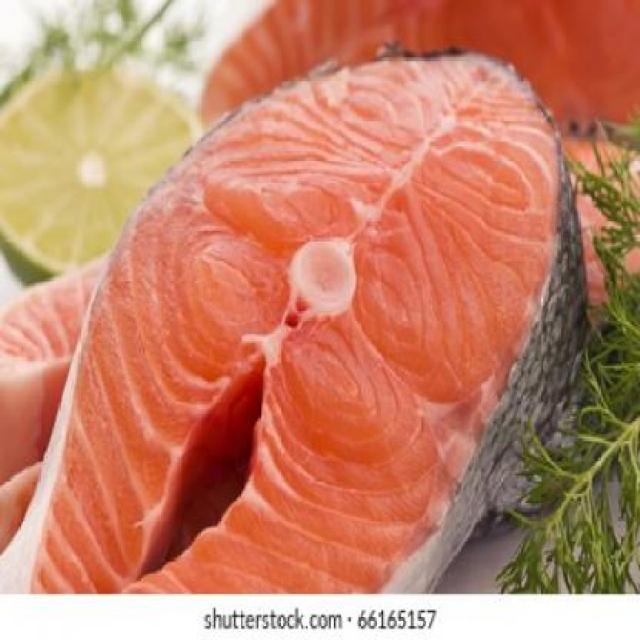salmon: (26, 52, 589, 590)
